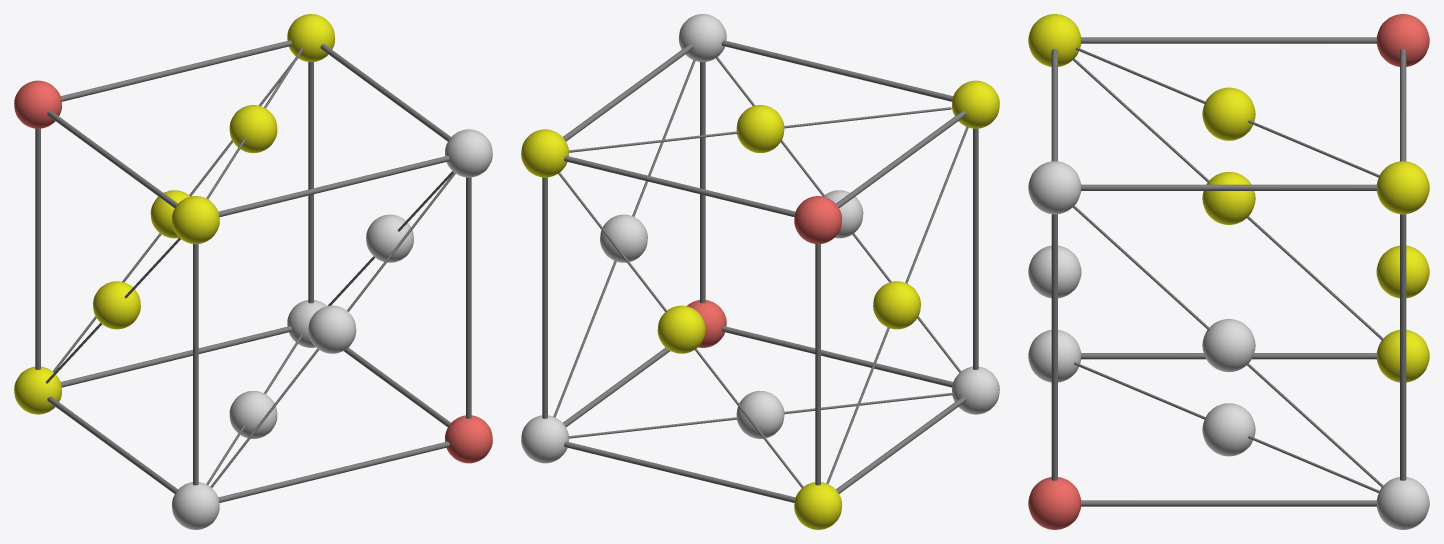
The model's file is jinge4.obj.
3 renders of one model, left to right at view 1: azimuth 30°, elevation 25°; view 2: azimuth 150°, elevation 25°; view 3: azimuth 270°, elevation 25°, orthographic. The views are drawn at different scales.
Visible parts, largest first — view 1: zhengsimiantifinal:jinge5 zhengsimiantifinal:group45 zhengsimian, zhengsimiantifinal:group42 zhengsimiantifinal:jinge5 zhengsimian, zhengsimiantifinal:jinge5 zhengsimiantifinal:group43 zhengsimian, zhengsimiantifinal:jinge5 zhengsimiantifinal:pSphere12 zhengsimi, zhengsimiantifinal:jinge5 zhengsimiantifinal:pSphere18 zhengsimi, zhengsimiantifinal:jinge5 zhengsimiantifinal:group44 zhengsimian, zhengsimiantifinal:pSphere11 zhengsimiantifinal:group42 zhengsim, zhengsimiantifinal:jinge5 zhengsimiantifinal:polySurface52 zheng; view 2: zhengsimiantifinal:jinge5 zhengsimiantifinal:group45 zhengsimian, zhengsimiantifinal:group42 zhengsimiantifinal:jinge5 zhengsimian, zhengsimiantifinal:jinge5 zhengsimiantifinal:group43 zhengsimian, zhengsimiantifinal:jinge5 zhengsimiantifinal:group44 zhengsimian, zhengsimiantifinal:pSphere11 zhengsimiantifinal:group42 zhengsim, zhengsimiantifinal:jinge5 zhengsimiantifinal:pSphere12 zhengsimi, zhengsimiantifinal:jinge5 zhengsimiantifinal:pSphere18 zhengsimi, zhengsimiantifinal:jinge5 zhengsimiantifinal:polySurface52 zheng; view 3: zhengsimiantifinal:jinge5 zhengsimiantifinal:group45 zhengsimian, zhengsimiantifinal:jinge5 zhengsimiantifinal:group43 zhengsimian, zhengsimiantifinal:group42 zhengsimiantifinal:jinge5 zhengsimian, zhengsimiantifinal:pSphere11 zhengsimiantifinal:group42 zhengsim, zhengsimiantifinal:jinge5 zhengsimiantifinal:pSphere12 zhengsimi, zhengsimiantifinal:jinge5 zhengsimiantifinal:pSphere18 zhengsimi, zhengsimiantifinal:jinge5 zhengsimiantifinal:group44 zhengsimian, zhengsimiantifinal:jinge5 zhengsimiantifinal:polySurface52 zheng.
Boxes of the visible parts, x1,y1,x2,y2 form: zhengsimiantifinal:jinge5 zhengsimiantifinal:group45 zhengsimian: [35, 40, 471, 502]; zhengsimiantifinal:group42 zhengsimiantifinal:jinge5 zhengsimian: [14, 105, 277, 414]; zhengsimiantifinal:jinge5 zhengsimiantifinal:group43 zhengsimian: [172, 214, 413, 529]; zhengsimiantifinal:jinge5 zhengsimiantifinal:pSphere12 zhengsimi: [445, 129, 492, 177]; zhengsimiantifinal:jinge5 zhengsimiantifinal:pSphere18 zhengsimi: [445, 415, 492, 463]; zhengsimiantifinal:jinge5 zhengsimiantifinal:group44 zhengsimian: [14, 80, 61, 128]; zhengsimiantifinal:pSphere11 zhengsimiantifinal:group42 zhengsim: [287, 14, 334, 61]; zhengsimiantifinal:jinge5 zhengsimiantifinal:polySurface52 zheng: [344, 347, 450, 427]; zhengsimiantifinal:jinge5 zhengsimiantifinal:group45 zhengsimian: [542, 40, 978, 502]; zhengsimiantifinal:group42 zhengsimiantifinal:jinge5 zhengsimian: [657, 80, 999, 529]; zhengsimiantifinal:jinge5 zhengsimiantifinal:group43 zhengsimian: [521, 190, 999, 463]; zhengsimiantifinal:jinge5 zhengsimiantifinal:group44 zhengsimian: [794, 196, 841, 244]; zhengsimiantifinal:pSphere11 zhengsimiantifinal:group42 zhengsim: [521, 129, 568, 177]; zhengsimiantifinal:jinge5 zhengsimiantifinal:pSphere12 zhengsimi: [679, 14, 726, 61]; zhengsimiantifinal:jinge5 zhengsimiantifinal:pSphere18 zhengsimi: [687, 300, 726, 347]; zhengsimiantifinal:jinge5 zhengsimiantifinal:polySurface52 zheng: [563, 347, 669, 427]; zhengsimiantifinal:jinge5 zhengsimiantifinal:group45 zhengsimian: [1051, 37, 1406, 492]; zhengsimiantifinal:jinge5 zhengsimiantifinal:group43 zhengsimian: [1028, 245, 1429, 529]; zhengsimiantifinal:group42 zhengsimiantifinal:jinge5 zhengsimian: [1028, 14, 1429, 382]; zhengsimiantifinal:pSphere11 zhengsimiantifinal:group42 zhengsim: [1376, 161, 1429, 214]; zhengsimiantifinal:jinge5 zhengsimiantifinal:pSphere12 zhengsimi: [1028, 161, 1081, 214]; zhengsimiantifinal:jinge5 zhengsimiantifinal:pSphere18 zhengsimi: [1028, 477, 1081, 529]; zhengsimiantifinal:jinge5 zhengsimiantifinal:group44 zhengsimian: [1376, 14, 1429, 66]; zhengsimiantifinal:jinge5 zhengsimiantifinal:polySurface52 zheng: [1081, 500, 1376, 506].
Size of the model in its own units: 57.65 by 57.65 by 57.65.
